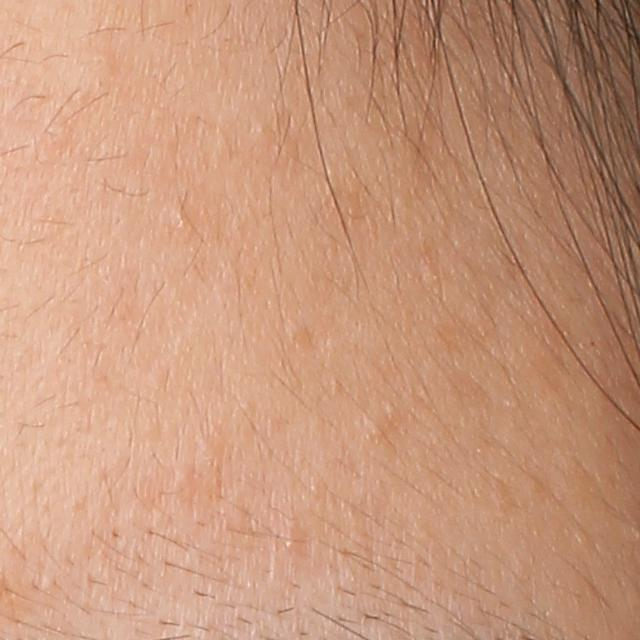comedo: (357, 411, 385, 445), (279, 318, 302, 349)
